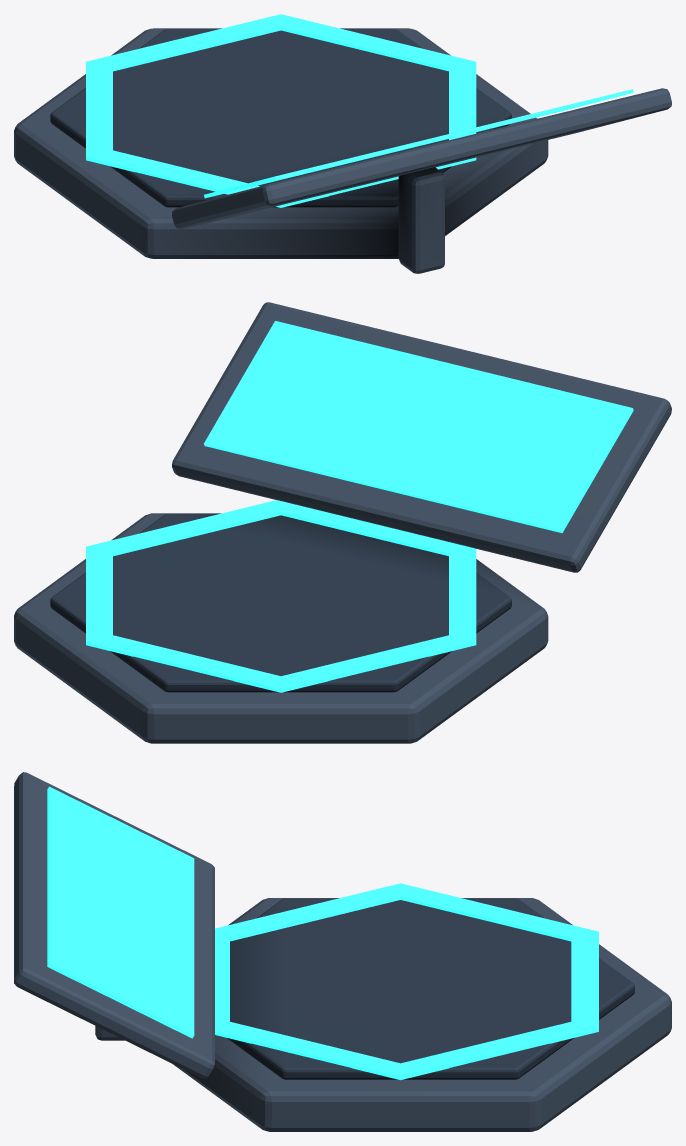
Rendered from pedestal.glb.
The picture shows the model from 3 angles, top to bottom: view 1: azimuth 30°, elevation 25°; view 2: azimuth 150°, elevation 25°; view 3: azimuth 270°, elevation 25°; orthographic projection.
Parts seen in each view (by area): view 1: PlinthTop, Plinth, PlinthGlow, ConsoleBody, ConsoleLeg, ConsoleScreen; view 2: ConsoleScreen, PlinthTop, Plinth, ConsoleBody, PlinthGlow; view 3: PlinthTop, Plinth, ConsoleScreen, ConsoleBody, PlinthGlow.
Boxes of the visible parts, x1,y1,x2,y2 form: PlinthTop: (50,29,511,207); Plinth: (14,28,548,258); PlinthGlow: (86,14,476,207); ConsoleBody: (172,88,671,229); ConsoleLeg: (398,167,444,273); ConsoleScreen: (204,89,633,198); ConsoleScreen: (204,321,633,533); PlinthTop: (50,514,511,692); Plinth: (14,513,548,743); ConsoleBody: (172,302,671,572); PlinthGlow: (86,500,476,692); PlinthTop: (227,898,634,1079); Plinth: (173,898,671,1131); ConsoleScreen: (47,786,194,1038); ConsoleBody: (14,772,214,1078); PlinthGlow: (215,883,598,1080).
Size of the model in its own units: 1.5 by 0.5706 by 2.07.
